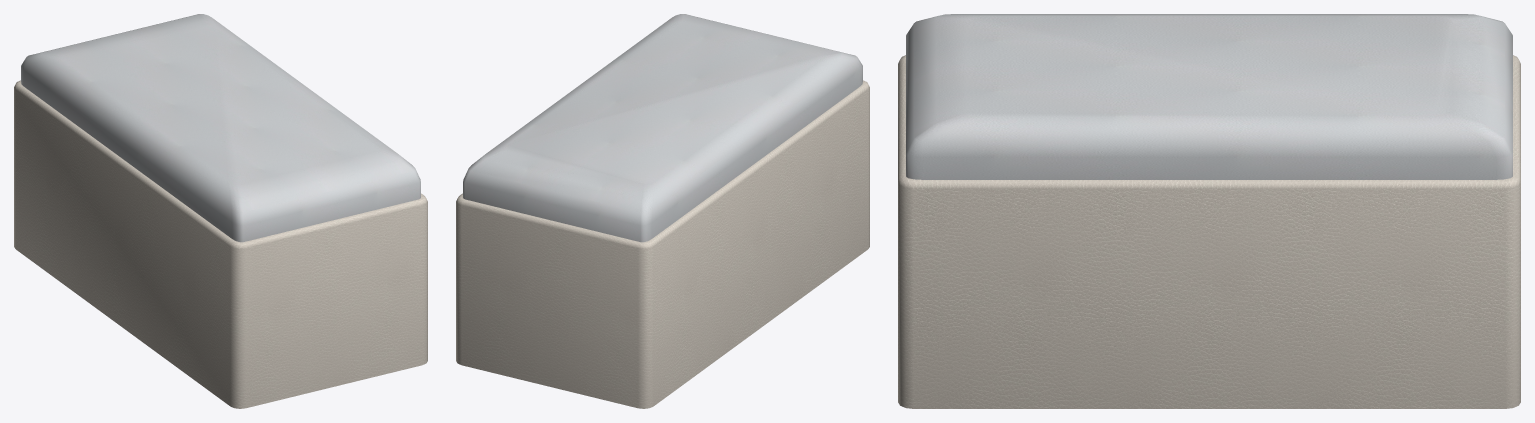
Rendered from whitePoof.fbx.
3 views of the same model, side by side, from view 1: azimuth 30°, elevation 25°; view 2: azimuth 150°, elevation 25°; view 3: azimuth 270°, elevation 25° (orthographic). The views are drawn at different scales.
Visible parts, largest first — view 1: Cube.001; view 2: Cube.001; view 3: Cube.001.
Part boxes in pixels (x1,y1,x2,y2): Cube.001: [14, 14, 427, 408]; Cube.001: [456, 14, 869, 408]; Cube.001: [898, 14, 1520, 408].
Size of the model in its own units: 50 by 49.02 by 100.
Materials: 2 (2 with a texture image).
